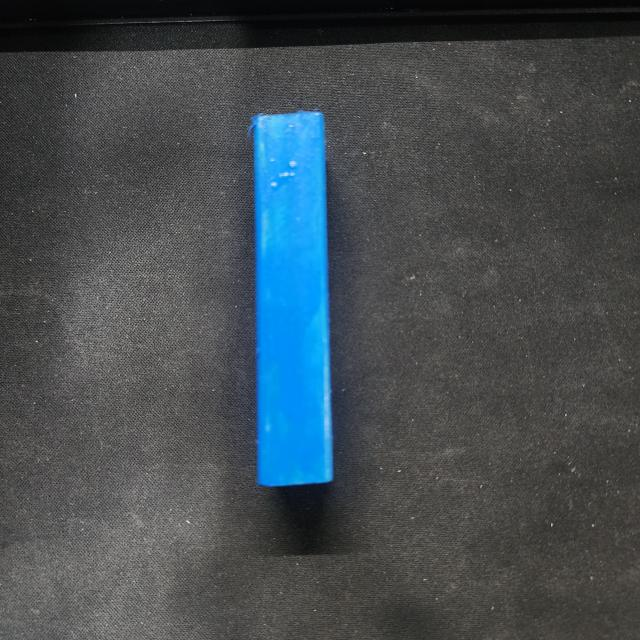blue: (249, 113, 333, 485)
